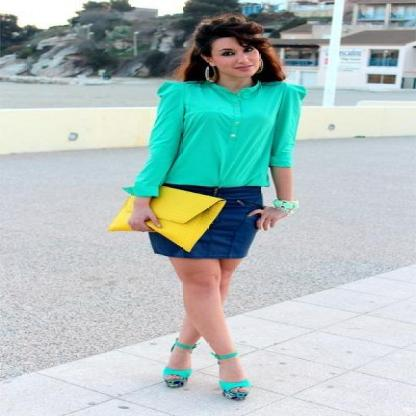bag: (108, 186, 226, 252)
shirt: (123, 80, 304, 196)
shoe: (163, 367, 249, 401)
skirt: (149, 185, 265, 262)
sunglass: (149, 182, 186, 206)
